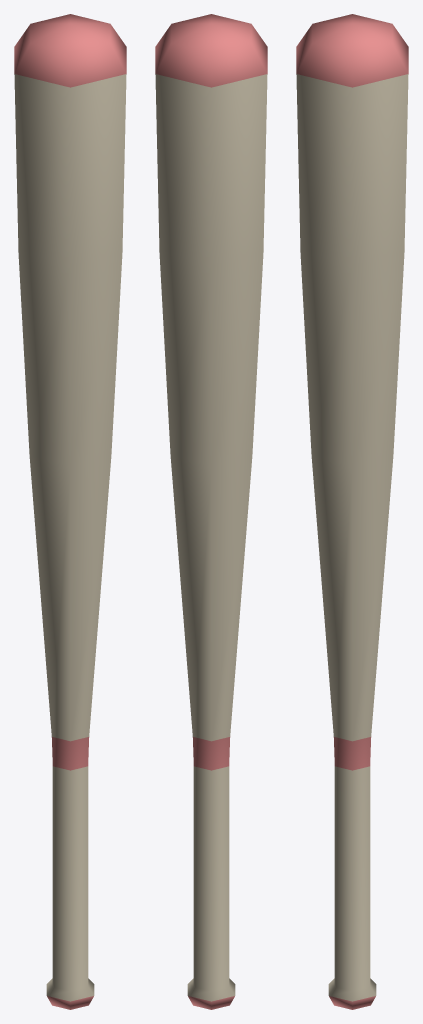
File: bat.fbx
3 renders of one model, left to right at view 1: azimuth 30°, elevation 25°; view 2: azimuth 210°, elevation 25°; view 3: azimuth 330°, elevation 25°, orthographic.
Visible parts, largest first — view 1: pCylinder1; view 2: pCylinder1; view 3: pCylinder1.
Boxes of the visible parts, box(x1,y1,x2,y2) form: pCylinder1: box(14, 14, 126, 1009); pCylinder1: box(155, 14, 267, 1009); pCylinder1: box(296, 14, 408, 1009).
Bounding box in the file's own units: 0.1633 × 1.36 × 0.1414.
